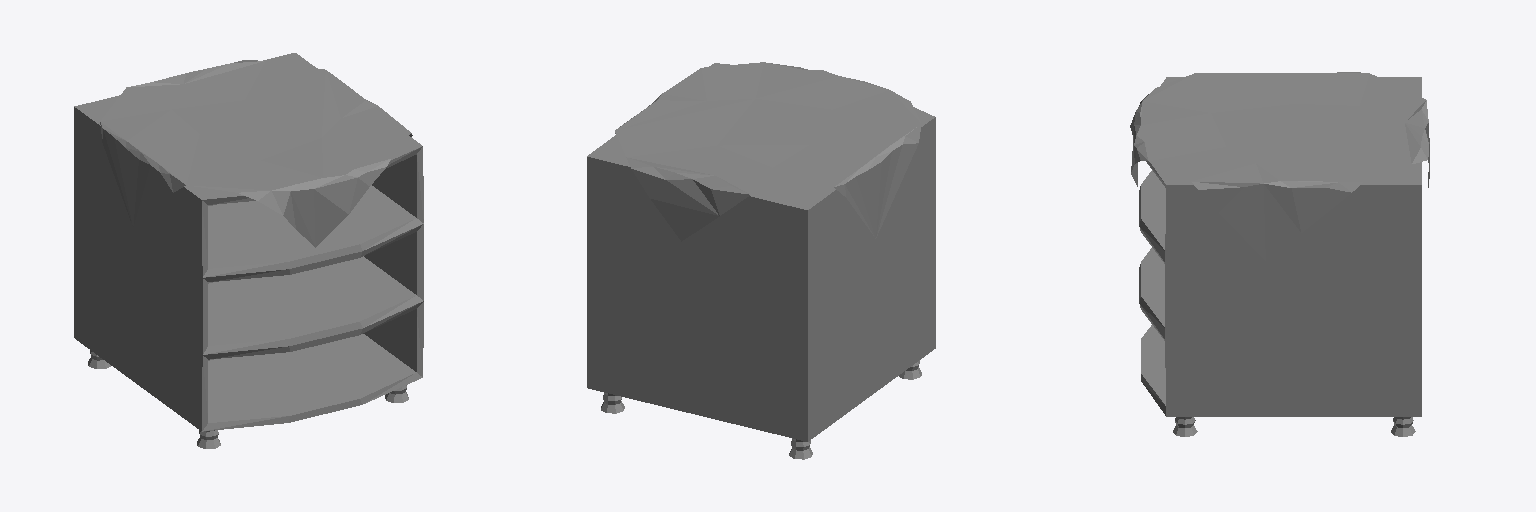
Rendered from table2.obj.
3 views of the same model, side by side, from view 1: azimuth 30°, elevation 25°; view 2: azimuth 150°, elevation 25°; view 3: azimuth 270°, elevation 25° (orthographic).
Visible parts, largest first — view 1: Cube; view 2: Cube; view 3: Cube.
Part boxes in pixels (bbox=[...]): Cube: bbox=[74, 53, 423, 448]; Cube: bbox=[587, 62, 935, 459]; Cube: bbox=[1130, 72, 1429, 436].
Size of the model in its own units: 38 by 40.48 by 42.24.